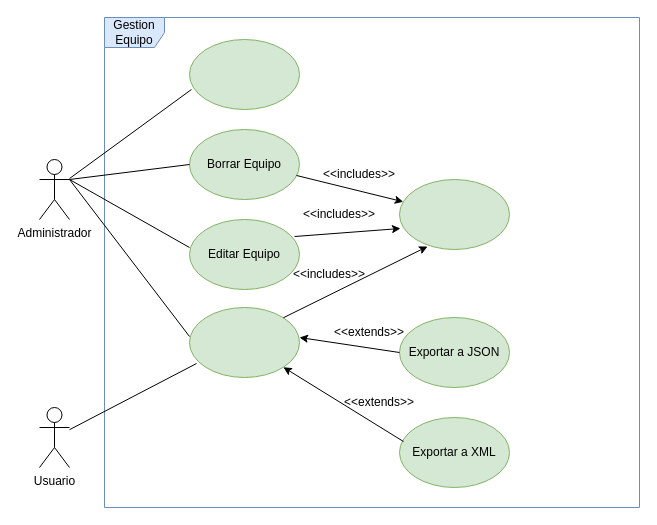
The diagram is 657 pixels wide and 525 high, and some of its shapes have lost their labels. The box of each missing label's shape, as (x1, y1, x2, y2) in pixels:
Buscar Equipo: (398, 178, 510, 250)
Crear Equipo: (188, 38, 300, 110)
Exportar Equipo: (188, 306, 300, 378)
